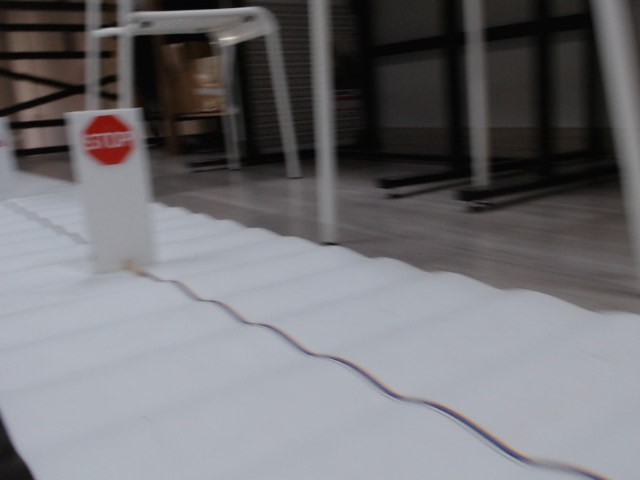Stop: (82, 116, 136, 165)
